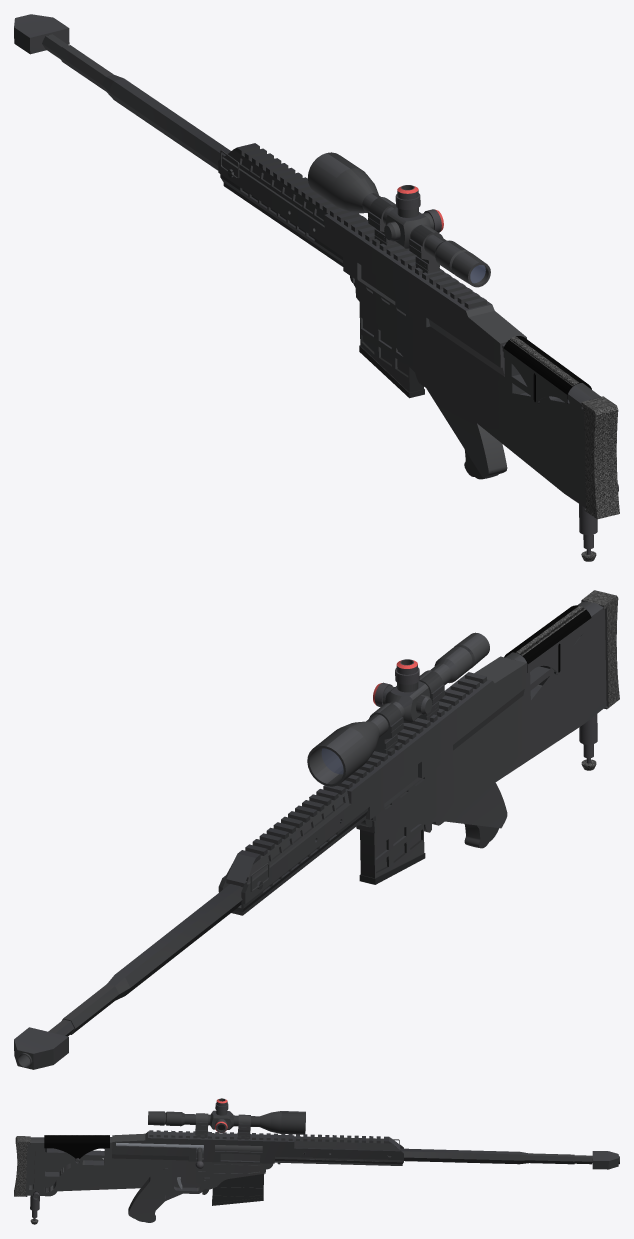
3 renders of one model, top to bottom at view 1: azimuth 30°, elevation 25°; view 2: azimuth 150°, elevation 25°; view 3: azimuth 270°, elevation 25°, orthographic. The views are drawn at different scales.
Parts seen in each view (by area): view 1: Mesh29 Group1 Barrett_M98B__Updated_1 Model, Mesh30 Group1 Barrett_M98B__Updated_1 Model, Mesh34 Group1 Barrett_M98B__Updated_1 Model; view 2: Mesh29 Group1 Barrett_M98B__Updated_1 Model, Mesh30 Group1 Barrett_M98B__Updated_1 Model, Mesh34 Group1 Barrett_M98B__Updated_1 Model; view 3: Mesh29 Group1 Barrett_M98B__Updated_1 Model, Mesh30 Group1 Barrett_M98B__Updated_1 Model, Mesh34 Group1 Barrett_M98B__Updated_1 Model.
Part boxes in pixels (box(x1,y1,x2,y2)): Mesh29 Group1 Barrett_M98B__Updated_1 Model: box(42, 34, 619, 561); Mesh30 Group1 Barrett_M98B__Updated_1 Model: box(307, 152, 490, 287); Mesh34 Group1 Barrett_M98B__Updated_1 Model: box(14, 14, 69, 54); Mesh29 Group1 Barrett_M98B__Updated_1 Model: box(48, 590, 619, 1036); Mesh30 Group1 Barrett_M98B__Updated_1 Model: box(307, 632, 489, 786); Mesh34 Group1 Barrett_M98B__Updated_1 Model: box(14, 1027, 68, 1069); Mesh29 Group1 Barrett_M98B__Updated_1 Model: box(14, 1130, 592, 1224); Mesh30 Group1 Barrett_M98B__Updated_1 Model: box(148, 1098, 305, 1138); Mesh34 Group1 Barrett_M98B__Updated_1 Model: box(592, 1151, 619, 1169).
Size of the model in its own units: 30.96 by 140 by 620.
